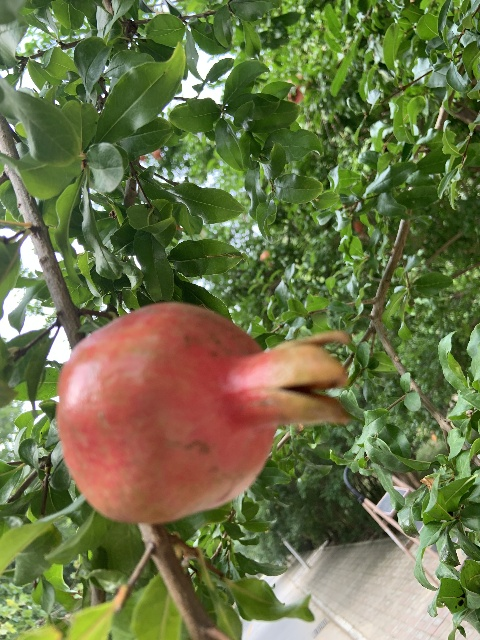ripe: (53, 301, 353, 521)
